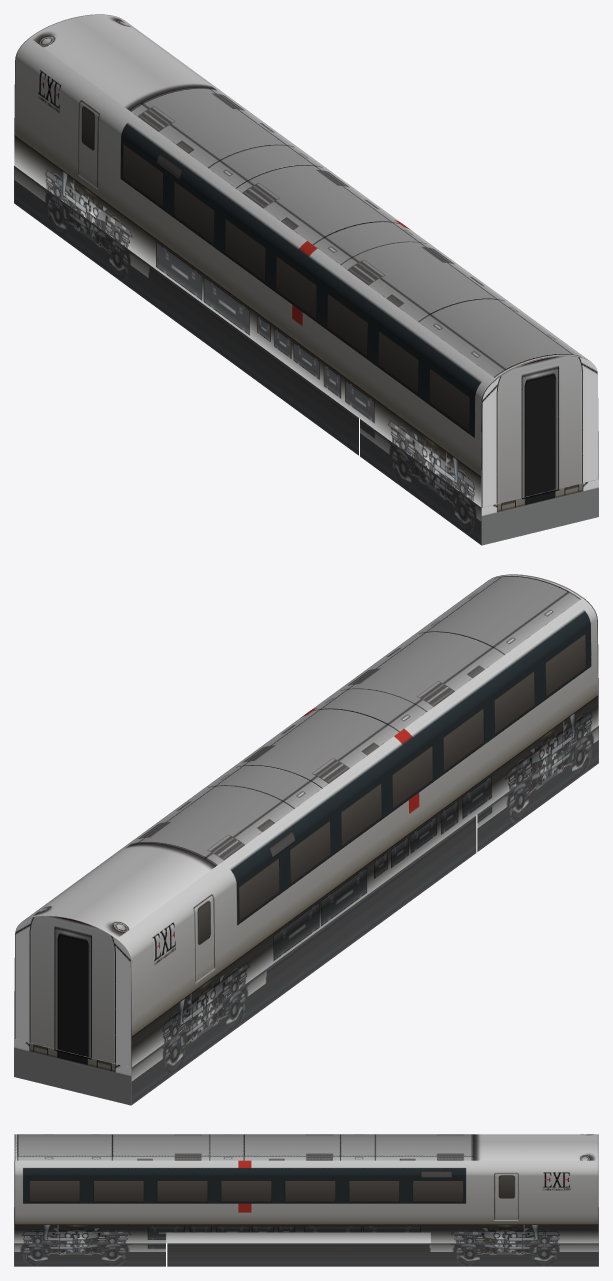
Rendered from car4.glb.
The picture shows the model from 3 angles, top to bottom: view 1: azimuth 30°, elevation 25°; view 2: azimuth 150°, elevation 25°; view 3: azimuth 270°, elevation 25°; orthographic projection. The views are drawn at different scales.
Visible parts, largest first — view 1: odakyu-30000-car4; view 2: odakyu-30000-car4; view 3: odakyu-30000-car4.
Boxes of the visible parts, x1,y1,x2,y2 form: odakyu-30000-car4: (14, 14, 598, 545); odakyu-30000-car4: (14, 574, 598, 1105); odakyu-30000-car4: (14, 1134, 598, 1266).
Size of the model in its own units: 2.9 by 4.05 by 20.03.
9 materials, 8 textured.
